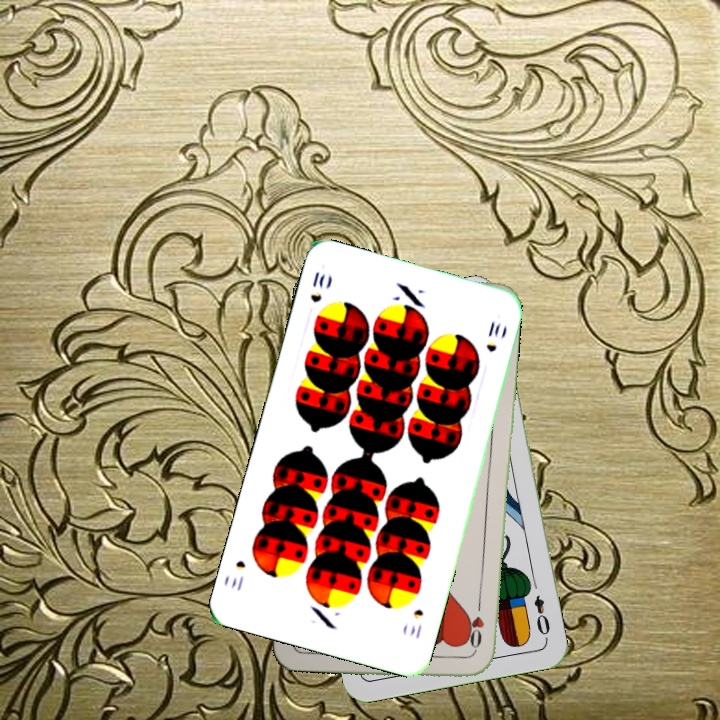EO: (530, 591, 553, 643)
HO: (465, 596, 487, 655)
S10: (306, 267, 328, 305), (406, 605, 427, 641)
